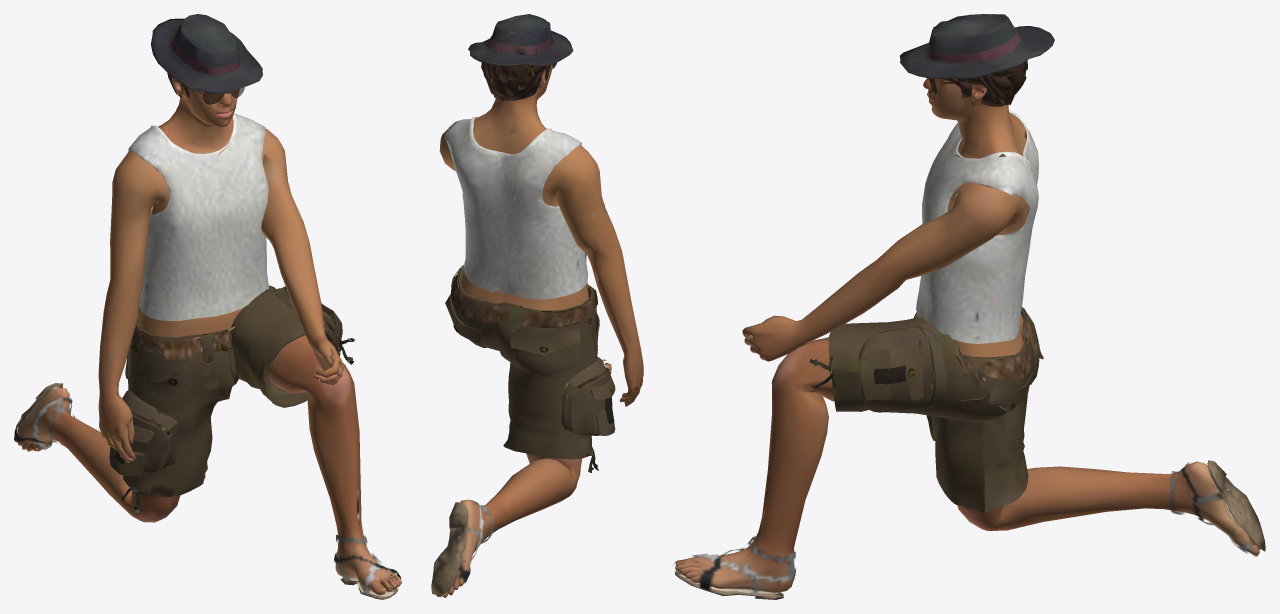
3 views of the same model, side by side, from view 1: azimuth 30°, elevation 25°; view 2: azimuth 150°, elevation 25°; view 3: azimuth 270°, elevation 25° (orthographic). The views are drawn at different scales.
Visible parts, largest first — view 1: p00034; view 2: p00034; view 3: p00034.
Part boxes in pixels (x1,y1,x2,y2): p00034: (14, 14, 402, 599); p00034: (431, 14, 643, 597); p00034: (673, 14, 1265, 599).
Size of the model in its own units: 0.5197 by 1.26 by 1.21.
1 material, 1 textured.
